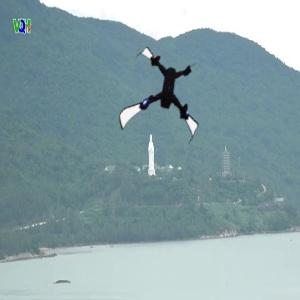drone: (123, 55, 213, 145)
